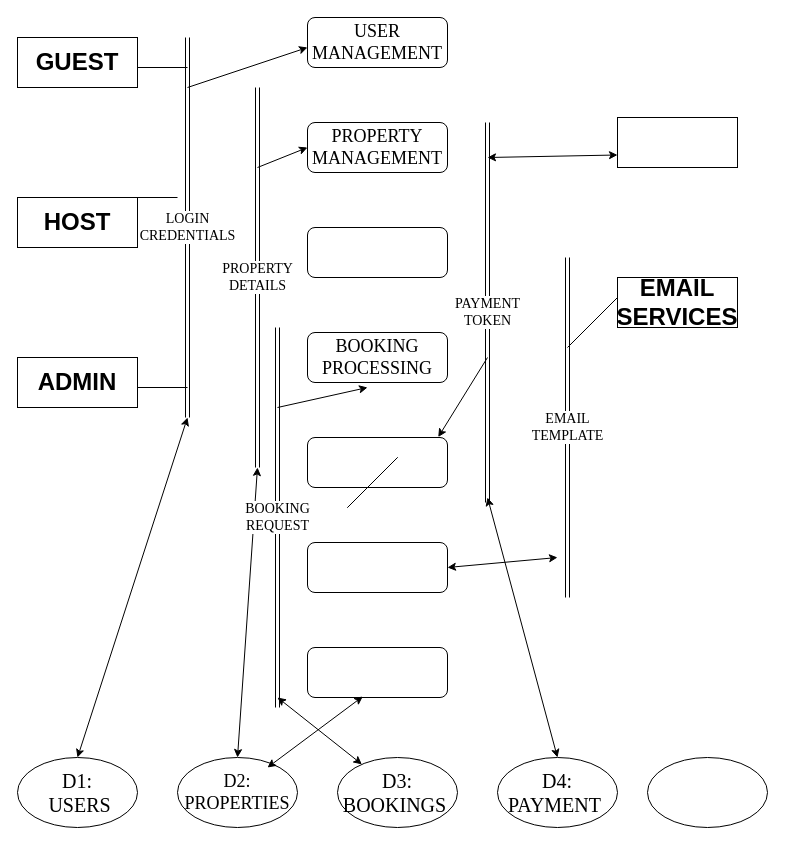
Image size: 785x845. Some labels were removed from this diagram. Here are the shapes that lost their labels. From the top down, the centre of each, then its label:
At (677,142): "PAYMENT GATEAY".
At (377,252): "SEARCH & FILTER".
At (377,462): "PAYMENT HANDLING".
At (377,567): "NOTIFICATION SENDING".
At (377,672): "ADMIN MONITORING".
At (707,792): "D5: REVIEWS".
